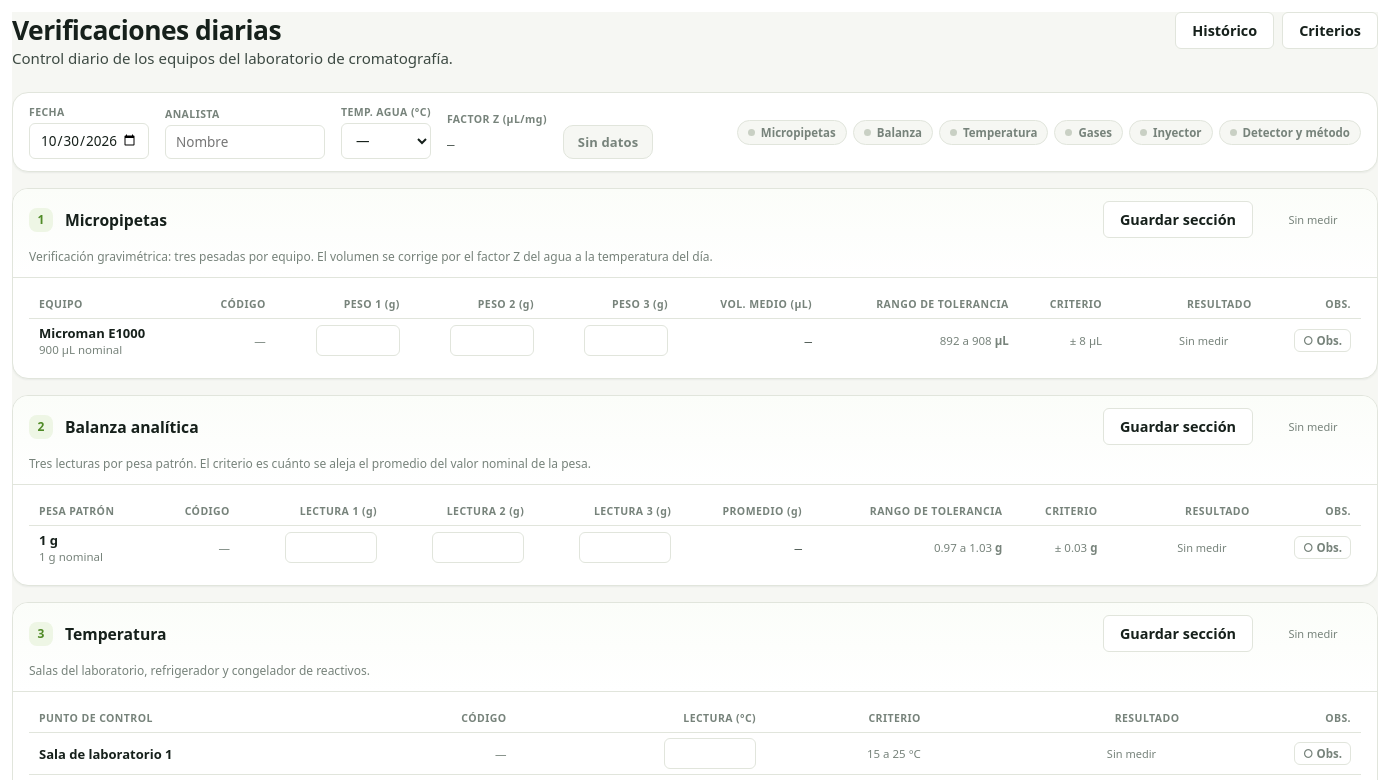
VerificacionesView › marca la temperatura fuera de rango mientras se escribe, sin guardar
Expected: the text "Sala de laboratorio 1" is shown, [29,733,371,775]
Type "30" into the number field in the row of "Sala de laboratorio 1".
click(710, 754); type("30")  # box [664,738,756,769]
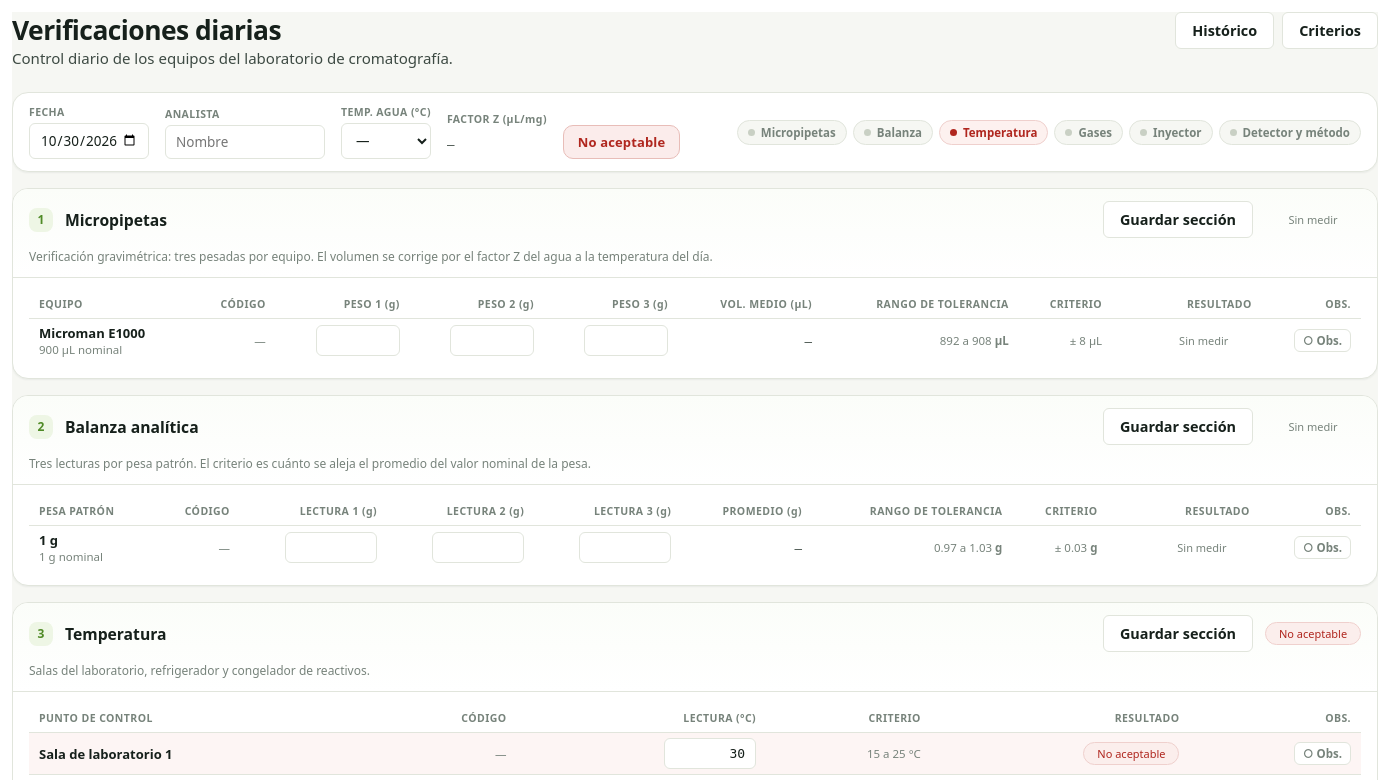
Expected: the text "No aceptable" in the row of "Sala de laboratorio 1" is shown, [1097,746,1166,761]
